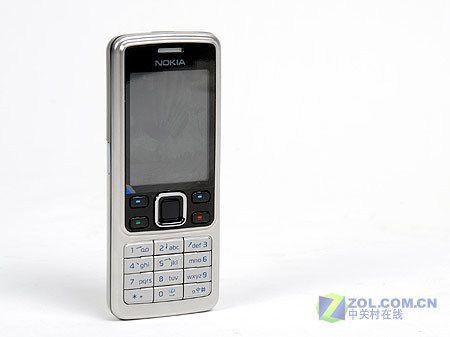phone: (101, 30, 221, 316)
